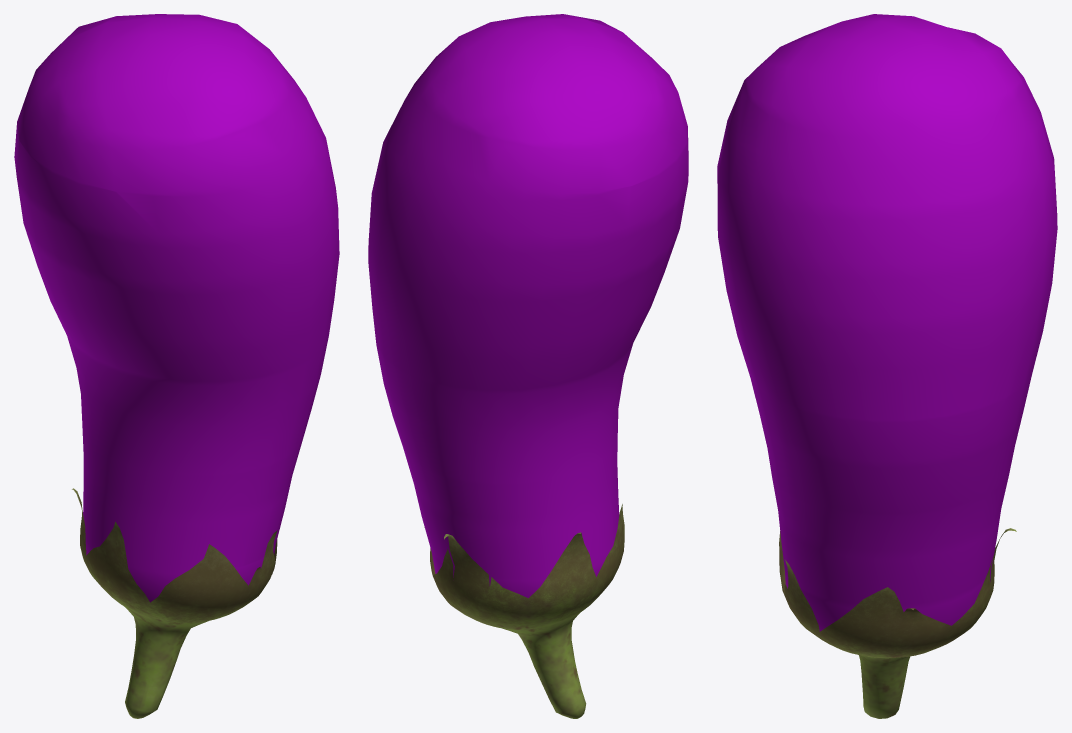
Rendered from eggplant_v1.fbx.
3 renders of one model, left to right at view 1: azimuth 30°, elevation 25°; view 2: azimuth 150°, elevation 25°; view 3: azimuth 270°, elevation 25°, orthographic. The views are drawn at different scales.
Parts seen in each view (by area): view 1: eggplant.body.015, eggplant.body.016, eggplant.body.014, eggplant.body.013, eggplant.body.011, eggplant.top, eggplant.body.012, eggplant.body.007, eggplant.body.010, eggplant.body.004, eggplant.body.001, eggplant.body; view 2: eggplant.body.015, eggplant.body.016, eggplant.body.014, eggplant.body.013, eggplant.top, eggplant.body.011, eggplant.body.012, eggplant.body.007, eggplant.body.010, eggplant.body.004, eggplant.body.001, eggplant.body; view 3: eggplant.body.015, eggplant.body.016, eggplant.body.014, eggplant.body.013, eggplant.body.011, eggplant.body.012, eggplant.body.007, eggplant.body.010, eggplant.top, eggplant.body.004, eggplant.body.001, eggplant.body.
Part boxes in pixels (x1,y1,x2,y2): eggplant.body.015: (39,14,290,136); eggplant.body.016: (17,51,320,196); eggplant.body.014: (14,125,334,248); eggplant.body.013: (18,174,338,294); eggplant.body.011: (27,236,339,339); eggplant.top: (72,488,277,718); eggplant.body.012: (44,284,335,381); eggplant.body.007: (65,332,329,426); eggplant.body.010: (78,381,318,474); eggplant.body.004: (82,420,303,523); eggplant.body.001: (83,475,289,574); eggplant.body: (85,540,276,602); eggplant.body.015: (419,14,667,142); eggplant.body.016: (389,53,687,201); eggplant.body.014: (375,126,688,253); eggplant.body.013: (369,179,686,301); eggplant.top: (424,504,624,718); eggplant.body.011: (368,233,675,347); eggplant.body.012: (371,290,657,390); eggplant.body.007: (376,339,634,435); eggplant.body.010: (386,388,621,482); eggplant.body.004: (402,439,617,531); eggplant.body.001: (416,479,619,580); eggplant.body: (430,546,605,598); eggplant.body.015: (746,14,1022,139); eggplant.body.016: (724,63,1046,205); eggplant.body.014: (717,129,1055,263); eggplant.body.013: (717,189,1057,318); eggplant.body.011: (722,260,1054,369); eggplant.body.012: (733,315,1045,419); eggplant.body.007: (749,370,1032,468); eggplant.body.010: (762,422,1020,513); eggplant.top: (779,528,1016,718); eggplant.body.004: (771,472,1009,558); eggplant.body.001: (779,520,999,605); eggplant.body: (785,569,991,631).
Size of the model in its own units: 0.5199 by 1.22 by 0.5362.
